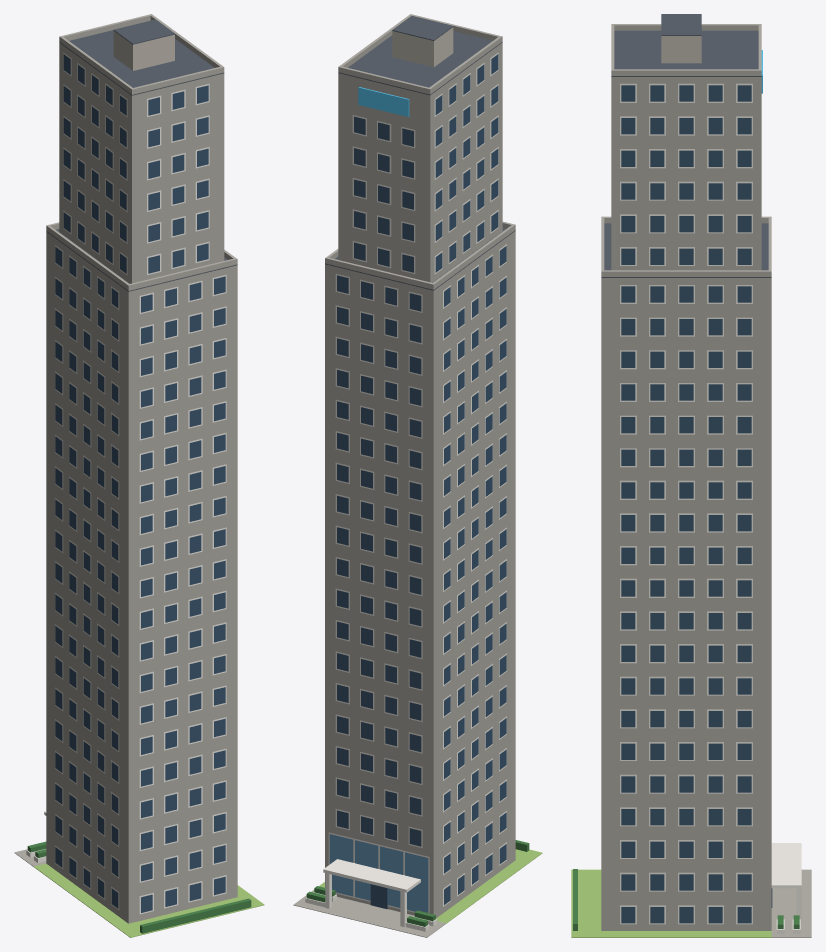
3 renders of one model, left to right at view 1: azimuth 30°, elevation 25°; view 2: azimuth 150°, elevation 25°; view 3: azimuth 270°, elevation 25°, orthographic. The views are drawn at different scales.
Visible parts, largest first — view 1: wall (×2), roof (×2), parapet (×5), lawn, plant_room, hedge; view 2: wall (×2), roof (×2), storefront (×4), parapet (×4), paving, plant_room, canopy, lawn, sign; view 3: wall (×2), roof (×3), lawn, parapet (×3), paving, canopy, plant_room.
Boxes of the visible parts, x1,y1,x2,y2 form: wall (×2): (46,43,237,923); roof (×2): (59,19,224,95); parapet (×5): (47,14,237,290); lawn: (34,863,264,937); plant_room: (113,31,174,70); hedge: (140,898,251,933); wall (×2): (325,42,515,918); roof (×2): (338,16,502,95); storefront (×4): (329,834,428,912); parapet (×4): (325,37,514,289); paving: (293,890,446,937); plant_room: (392,27,453,67); canopy: (323,859,420,892); lawn: (313,849,542,923); sign: (358,87,409,116); wall (×2): (601,77,771,930); roof (×3): (601,14,771,277); lawn: (571,869,771,937); parapet (×3): (604,24,768,276); paving: (771,869,811,937); canopy: (771,843,801,888); plant_room: (661,36,701,63).
Size of the model in its own units: 16 by 96.96 by 24.
